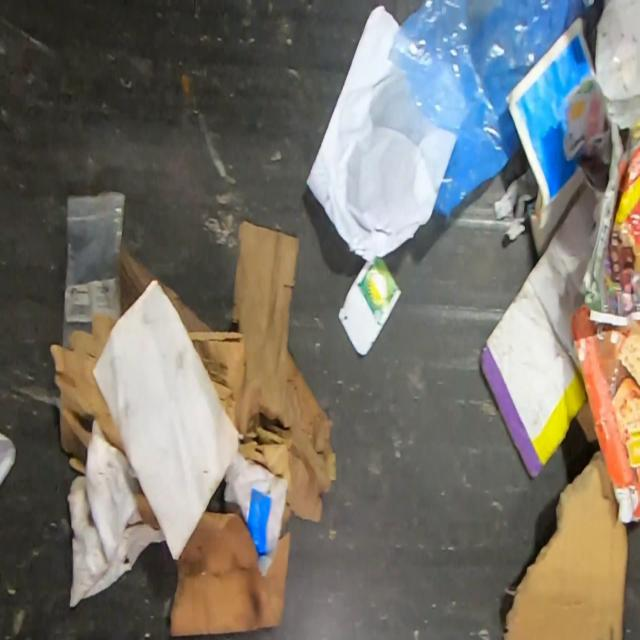cardboard: (479, 182, 598, 480), (502, 448, 629, 640), (570, 304, 640, 524), (49, 316, 126, 477), (121, 244, 212, 330), (337, 257, 403, 357), (188, 329, 247, 429)
soft_plastic: (388, 0, 590, 220), (60, 190, 127, 350), (591, 112, 640, 316), (223, 449, 289, 556)
